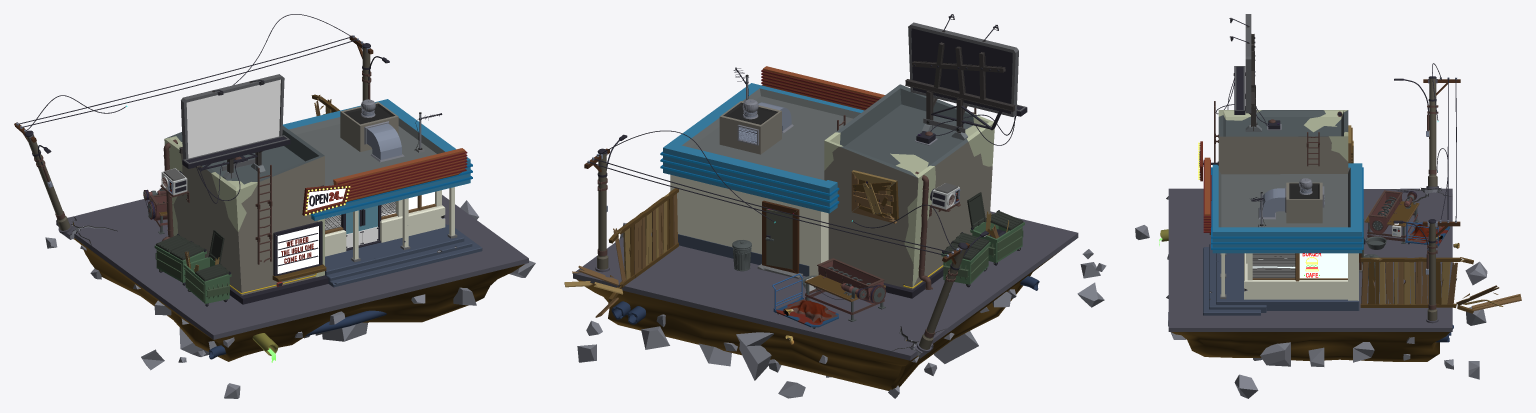
File: brugerjoint.glb
The picture shows the model from 3 angles, left to right: view 1: azimuth 30°, elevation 25°; view 2: azimuth 150°, elevation 25°; view 3: azimuth 270°, elevation 25°; orthographic projection. The views are drawn at different scales.
Visible parts, largest first — view 1: polySurface184, pCube3, ground_brown, pCube18, pCube122, pCube14, pCube19, pCube76, pCube150, pCube10, pCube459, pCube123 (+15 smaller); view 2: pCube3, polySurface184, pCube18, ground_brown, pCube213, pCube122, pCube76, pCube19, pCube123, polySurface432, pCube272, pCube221 (+22 smaller); view 3: polySurface184, pCube18, pCube3, ground_brown, pCube14, pCube10, pCube76, pCube212, pCube459, pCube15, pCube157, polySurface189 (+14 smaller).
Boxes of the visible parts, x1,y1,x2,y2 form: polySurface184: (56,195,528,339); pCube3: (164,126,324,295); ground_brown: (73,223,524,361); pCube18: (282,99,470,220); pCube122: (186,79,280,158); pCube14: (325,224,464,275); pCube19: (333,148,465,201); pCube76: (340,102,398,151); pCube150: (276,226,318,273); pCube10: (380,205,445,242); pCube459: (328,224,482,287); pCube123: (181,74,284,159); pCube3: (824,84,994,289); polySurface184: (573,211,1078,360); pCube18: (663,83,864,213); ground_brown: (577,250,1061,390); pCube213: (670,174,809,265); pCube122: (911,28,1012,113); pCube76: (719,101,781,154); pCube19: (763,66,884,110); pCube123: (908,22,1018,116); polySurface432: (766,209,792,269); pCube272: (809,208,828,275); pCube221: (736,332,773,380); polySurface184: (1168,188,1452,331); pCube18: (1212,163,1362,253); pCube3: (1218,110,1348,174); ground_brown: (1171,332,1450,361); pCube14: (1216,253,1359,310); pCube10: (1244,253,1347,299); pCube76: (1286,182,1322,223); pCube212: (1252,253,1347,278); pCube459: (1203,247,1260,315); pCube15: (1209,244,1266,312); pCube157: (1211,167,1363,238); polySurface189: (1429,78,1436,175).
Size of the model in its own units: 39.71 by 28.14 by 36.24.
Materials: 68 (2 with a texture image).
